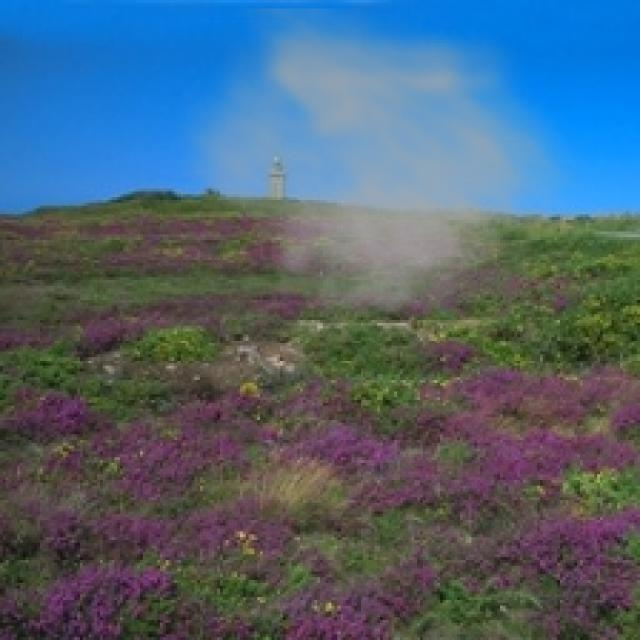smoke: (166, 9, 588, 352)
